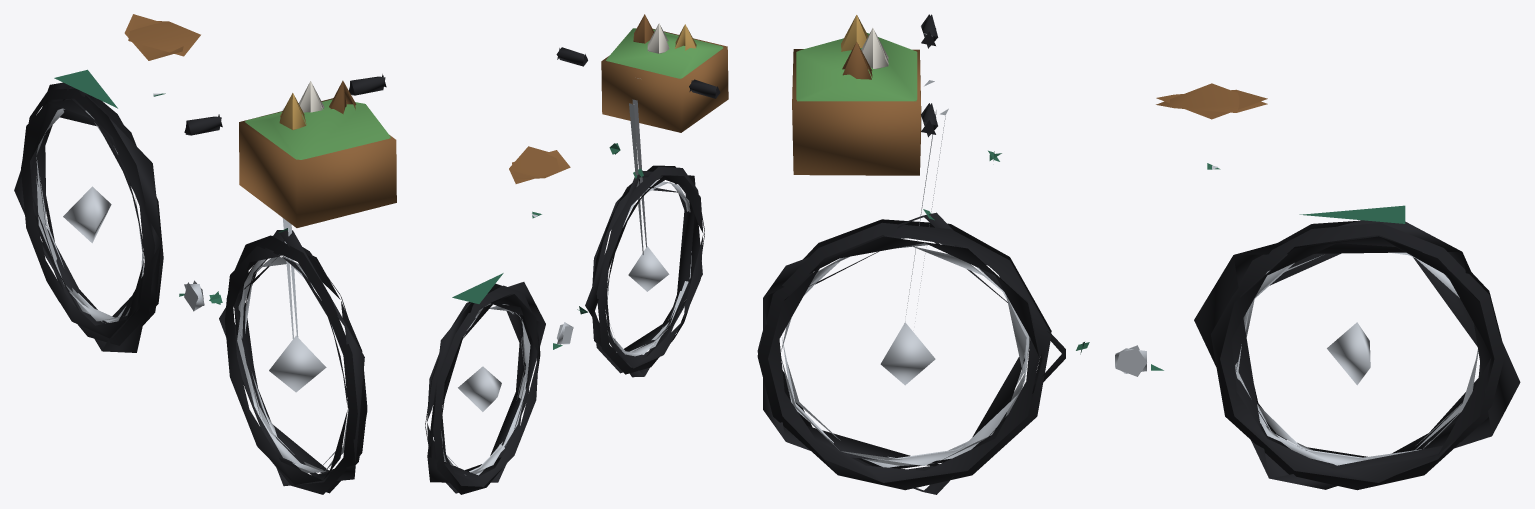
The model's file is lod_bicycle_parked.glb.
3 renders of one model, left to right at view 1: azimuth 30°, elevation 25°; view 2: azimuth 150°, elevation 25°; view 3: azimuth 270°, elevation 25°, orthographic. The views are drawn at different scales.
Parts seen in each view (by area): view 1: bicycle_parked; view 2: bicycle_parked; view 3: bicycle_parked.
Part boxes in pixels (x1,y1,x2,y2): bicycle_parked: [14, 14, 396, 494]; bicycle_parked: [425, 14, 728, 494]; bicycle_parked: [757, 14, 1520, 494].
Size of the model in its own units: 0.62 by 1.28 by 1.89.
